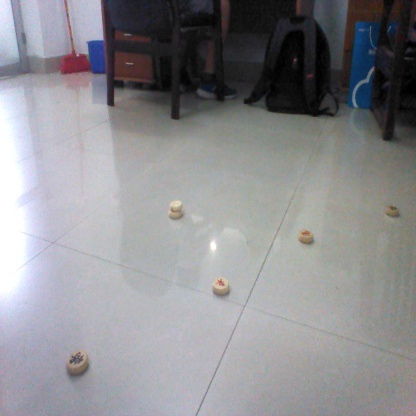chess: (67, 346, 89, 374), (208, 274, 230, 299), (299, 227, 318, 246), (165, 200, 183, 219), (385, 201, 401, 219)
